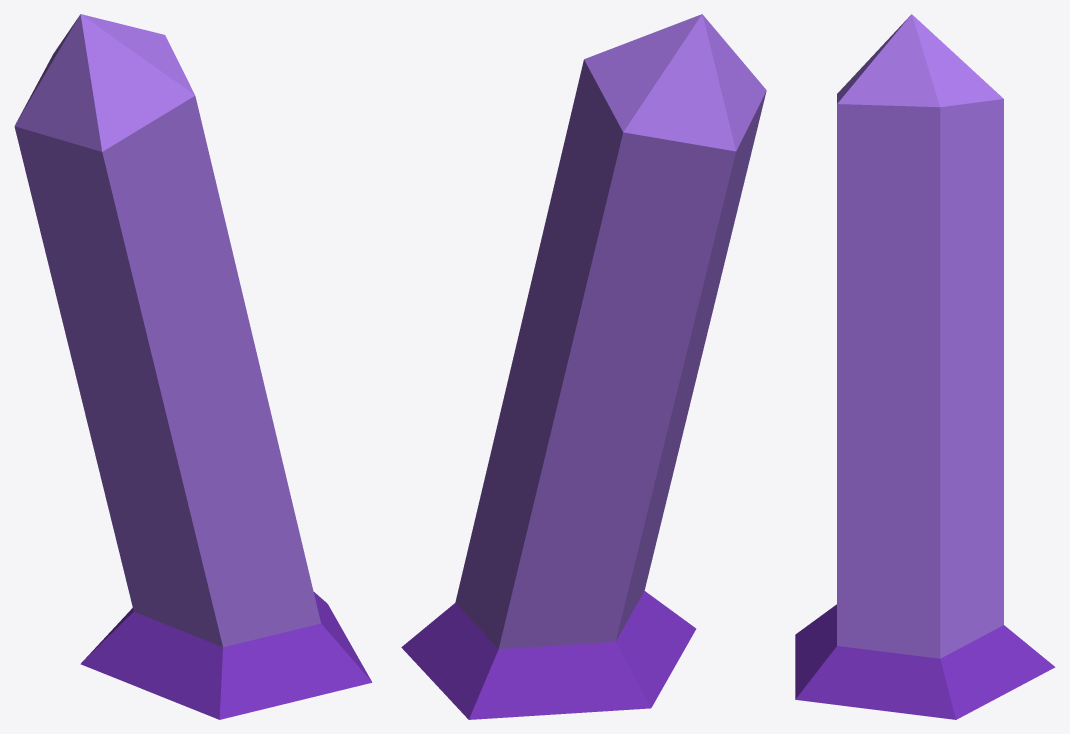
File: crystal_titled_004_grp.fbx
3 views of the same model, side by side, from view 1: azimuth 30°, elevation 25°; view 2: azimuth 150°, elevation 25°; view 3: azimuth 270°, elevation 25° (orthographic). The views are drawn at different scales.
Visible parts, largest first — view 1: crystal_titled_004_grp; view 2: crystal_titled_004_grp; view 3: crystal_titled_004_grp.
Part boxes in pixels (x1,y1,x2,y2): crystal_titled_004_grp: (14,14,372,719); crystal_titled_004_grp: (401,14,766,719); crystal_titled_004_grp: (795,14,1055,719).
Size of the model in its own units: 25 by 50 by 20.
